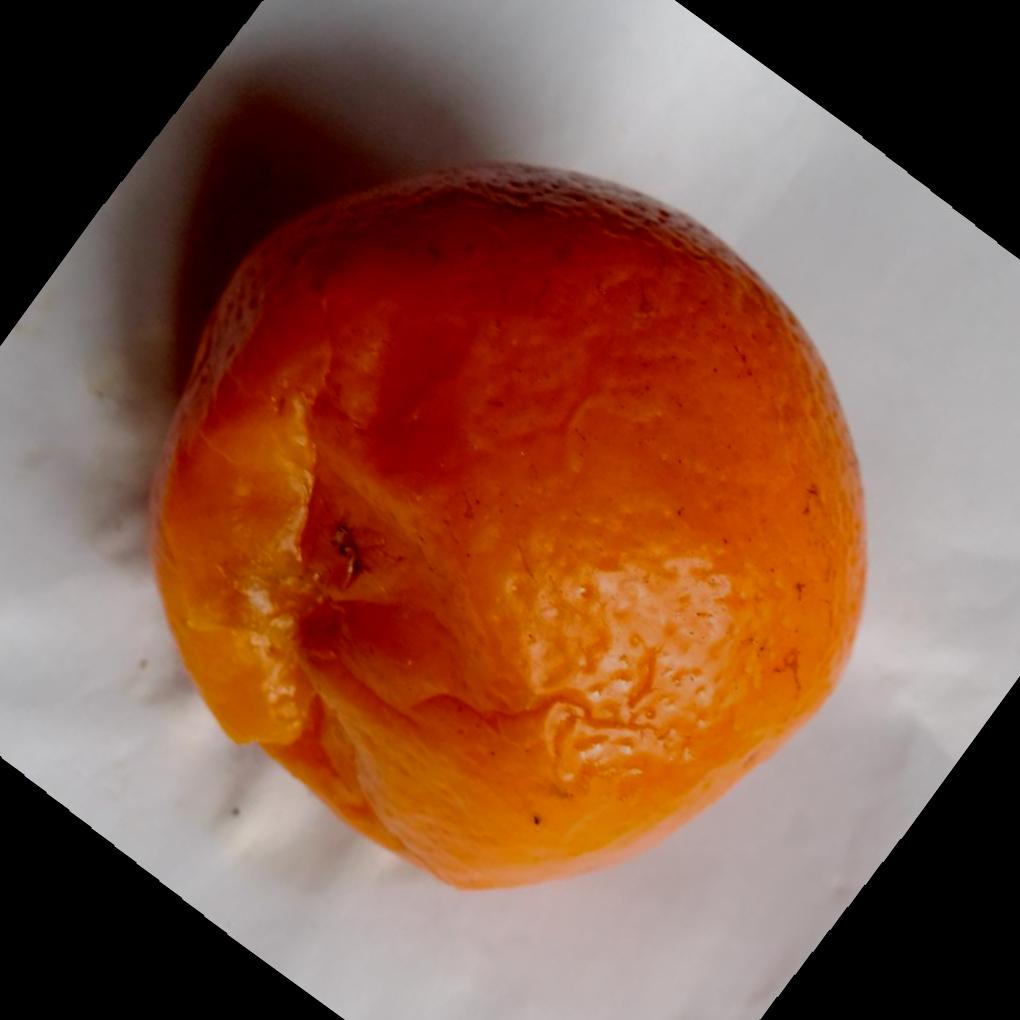FreshOrange: (150, 156, 871, 891)
